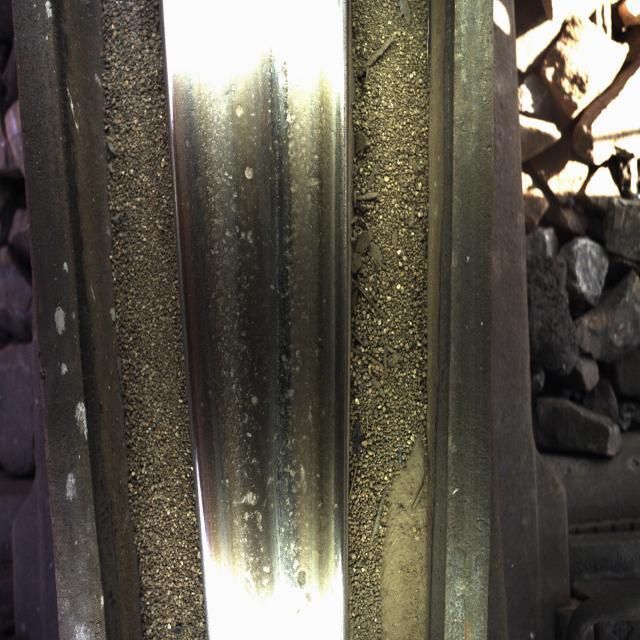scar: (192, 62, 322, 598)
